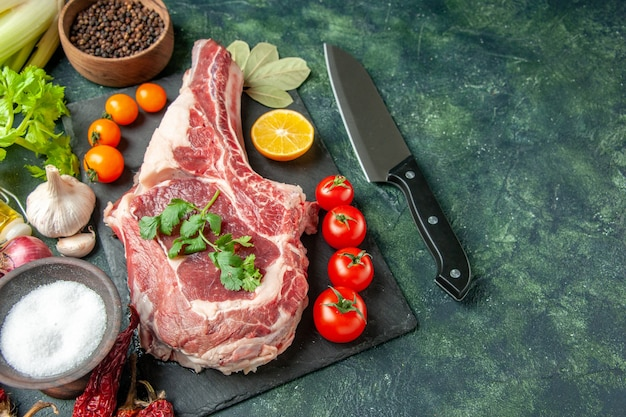knife: (323, 42, 474, 300)
